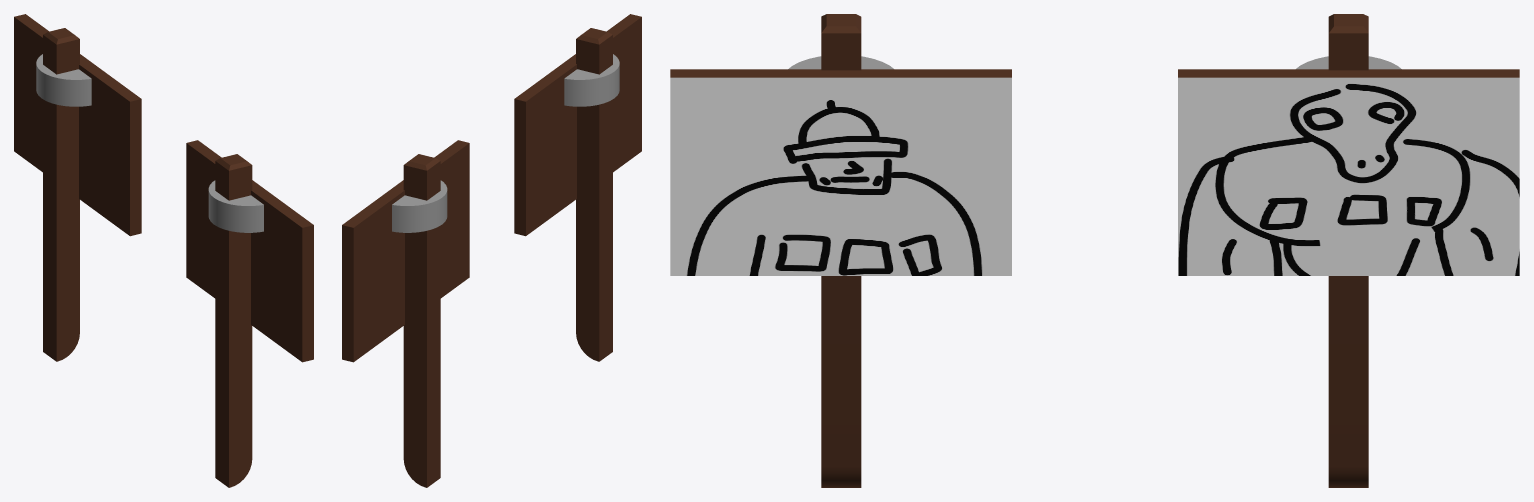
File: Tablichki2.fbx
The picture shows the model from 3 angles, left to right: view 1: azimuth 30°, elevation 25°; view 2: azimuth 150°, elevation 25°; view 3: azimuth 270°, elevation 25°; orthographic projection. The views are drawn at different scales.
Visible parts, largest first — view 1: Cube.023, Cube.025, Cube.021, Cube.024; view 2: Cube.025, Cube.023, Cube.024, Cube.021; view 3: Cube.023, Cube.025, Cube.021, Cube.024.
Boxes of the visible parts, x1,y1,x2,y2 form: Cube.023: [186, 140, 313, 362]; Cube.025: [14, 14, 141, 236]; Cube.021: [208, 154, 263, 487]; Cube.024: [36, 28, 91, 361]; Cube.025: [342, 140, 469, 362]; Cube.023: [514, 14, 641, 236]; Cube.024: [392, 154, 447, 487]; Cube.021: [564, 28, 619, 361]; Cube.023: [670, 69, 1011, 275]; Cube.025: [1178, 69, 1519, 275]; Cube.021: [788, 14, 893, 487]; Cube.024: [1296, 14, 1401, 487].
Size of the model in its own units: 26.25 by 191 by 312.
4 materials, 2 textured.
